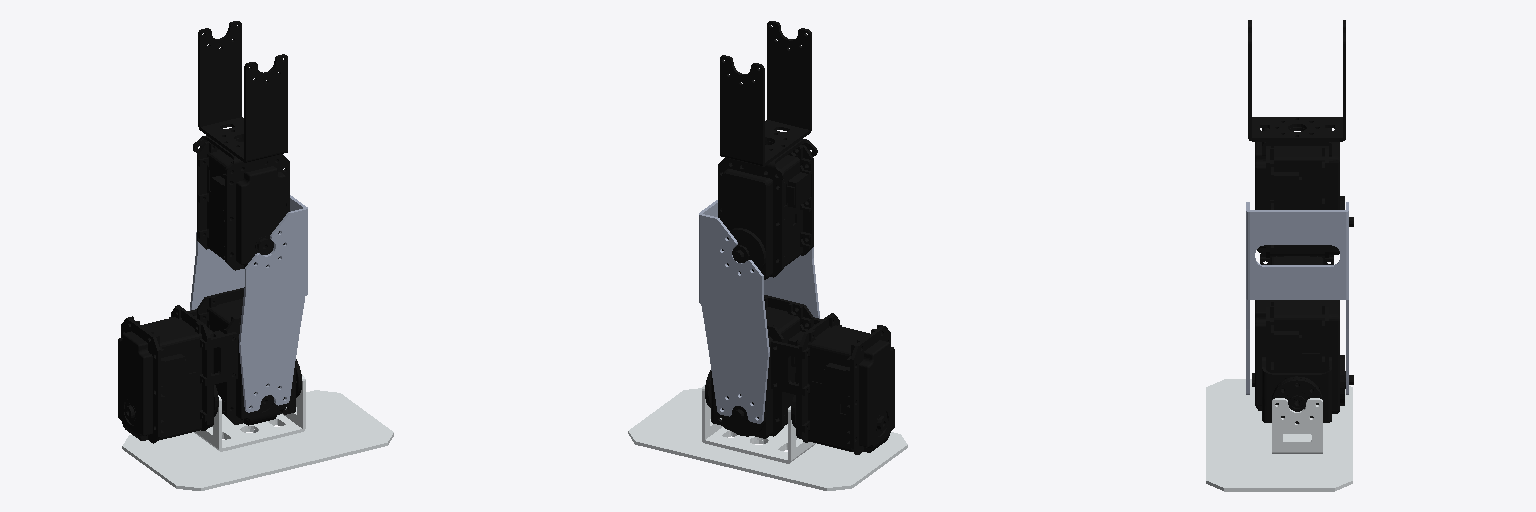
URDF robot description (manipulator4):
<?xml version="1.0" encoding="utf-8"?>
<!-- This URDF was automatically created by SolidWorks to URDF Exporter! Originally created by [author] ([email redacted]) 
     Commit Version: 1.6.0-4-g7f85cfe  Build Version: 1.6.7995.38578
     For more information, please see http://wiki.ros.org/sw_urdf_exporter -->
<robot
  name="manipulator4">
  <link
    name="base_link">
    <inertial>
      <origin
        xyz="2.17331708185498E-12 0.00178247112194396 0.00306162092244028"
        rpy="0 0 0" />
      <mass
        value="0.0728910331402469" />
      <inertia
        ixx="3.33197131957043E-05"
        ixy="-2.71242780722914E-14"
        ixz="8.0980735478671E-16"
        iyy="0.000102630001592682"
        iyz="1.6496497981213E-12"
        izz="0.000132875198490806" />
    </inertial>
    <visual>
      <origin
        xyz="0 0 0"
        rpy="0 0 0" />
      <geometry>
        <mesh
          filename="package://manipulator4/meshes/base_link.STL" />
      </geometry>
      <material
        name="">
        <color
          rgba="0.898039215686275 0.917647058823529 0.929411764705882 1" />
      </material>
    </visual>
    <collision>
      <origin
        xyz="0 0 0"
        rpy="0 0 0" />
      <geometry>
        <mesh
          filename="package://manipulator4/meshes/base_link.STL" />
      </geometry>
    </collision>
  </link>
  <link
    name="link_1">
    <inertial>
      <origin
        xyz="0.000227538997475629 0.0154251824435588 -0.0551470673142738"
        rpy="0 0 0" />
      <mass
        value="0.180088485284144" />
      <inertia
        ixx="7.46163435024469E-05"
        ixy="1.04652081852546E-06"
        ixz="5.66413204468217E-10"
        iyy="4.6834481154212E-05"
        iyz="1.07372682745277E-06"
        izz="7.51968011341353E-05" />
    </inertial>
    <visual>
      <origin
        xyz="0 0 0"
        rpy="0 0 0" />
      <geometry>
        <mesh
          filename="package://manipulator4/meshes/link_1.STL" />
      </geometry>
      <material
        name="">
        <color
          rgba="0.109803921568627 0.109803921568627 0.109803921568627 1" />
      </material>
    </visual>
    <collision>
      <origin
        xyz="0 0 0"
        rpy="0 0 0" />
      <geometry>
        <mesh
          filename="package://manipulator4/meshes/link_1.STL" />
      </geometry>
    </collision>
  </link>
  <joint
    name="joint_1"
    type="revolute">
    <origin
      xyz="0.02791 0.0096306 0.03233"
      rpy="1.5708 -0.00052794 1.5708" />
    <parent
      link="base_link" />
    <child
      link="link_1" />
    <axis
      xyz="0 0 1" />
    <limit
      lower="-3.14"
      upper="3.14"
      effort="3.14"
      velocity="3.14" />
  </joint>
  <link
    name="link_2">
    <inertial>
      <origin
        xyz="-0.00932898241717806 0.0613340430799498 -0.0305322255214537"
        rpy="0 0 0" />
      <mass
        value="0.0193582268613659" />
      <inertia
        ixx="3.00375991978184E-05"
        ixy="4.16144713130199E-06"
        ixz="2.19699734046279E-09"
        iyy="1.5433776617761E-05"
        iyz="-3.1693652762254E-09"
        izz="2.14370348461358E-05" />
    </inertial>
    <visual>
      <origin
        xyz="0 0 0"
        rpy="0 0 0" />
      <geometry>
        <mesh
          filename="package://manipulator4/meshes/link_2.STL" />
      </geometry>
      <material
        name="">
        <color
          rgba="0.666666666666667 0.698039215686274 0.768627450980392 1" />
      </material>
    </visual>
    <collision>
      <origin
        xyz="0 0 0"
        rpy="0 0 0" />
      <geometry>
        <mesh
          filename="package://manipulator4/meshes/link_2.STL" />
      </geometry>
    </collision>
  </link>
  <joint
    name="joint_2"
    type="revolute">
    <origin
      xyz="0.0308 -1.6277E-05 -0.03202"
      rpy="-1.5708 1.5708 -1.5708" />
    <parent
      link="link_1" />
    <child
      link="link_2" />
    <axis
      xyz="0 -0.00052794 1" />
    <limit
      lower="-3.14"
      upper="3.14"
      effort="3.14"
      velocity="3.14" />
  </joint>
  <link
    name="link_3">
    <inertial>
      <origin
        xyz="2.84556350677589E-05 0.0218754116356132 -0.0255801322315767"
        rpy="0 0 0" />
      <mass
        value="0.0975320096834529" />
      <inertia
        ixx="4.93088846498694E-05"
        ixy="7.60384502706862E-09"
        ixz="-2.30622525887365E-09"
        iyy="2.88361322903035E-05"
        iyz="1.05882453673914E-06"
        izz="3.6419155365456E-05" />
    </inertial>
    <visual>
      <origin
        xyz="0 0 0"
        rpy="0 0 0" />
      <geometry>
        <mesh
          filename="package://manipulator4/meshes/link_3.STL" />
      </geometry>
      <material
        name="">
        <color
          rgba="0.109803921568627 0.109803921568627 0.109803921568627 1" />
      </material>
    </visual>
    <collision>
      <origin
        xyz="0 0 0"
        rpy="0 0 0" />
      <geometry>
        <mesh
          filename="package://manipulator4/meshes/link_3.STL" />
      </geometry>
    </collision>
  </link>
  <joint
    name="joint_3"
    type="revolute">
    <origin
      xyz="0 0.0950025208757817 -0.00474984497089004"
      rpy="0 0 0" />
    <parent
      link="link_2" />
    <child
      link="link_3" />
    <axis
      xyz="0 -0.000527940633375548 0.999999860639334" />
    <limit
      lower="-3.14"
      upper="3.14"
      effort="3.14"
      velocity="3.14" />
  </joint>
</robot>

--- Facts derived from the render (not from the file) ---
Views: 3 orthographic renders of the robot side by side, from view 1: azimuth 30°, elevation 25°; view 2: azimuth 150°, elevation 25°; view 3: azimuth 270°, elevation 25°.
Robot: manipulator4 — 4 links, 3 joints (3 revolute); root link base_link; default pose: all joints at 0.
Visible links, largest first — view 1: link_3, link_1, base_link, link_2; view 2: link_3, link_1, link_2, base_link; view 3: base_link, link_1, link_3, link_2.
Link boxes in pixels (left/top/right/bottom): link_3: left=193, top=21, right=289, bottom=270; link_1: left=118, top=287, right=301, bottom=443; base_link: left=122, top=375, right=393, bottom=490; link_2: left=190, top=195, right=307, bottom=412; link_3: left=718, top=21, right=817, bottom=279; link_1: left=705, top=295, right=894, bottom=454; link_2: left=699, top=200, right=819, bottom=423; base_link: left=628, top=384, right=907, bottom=490; base_link: left=1206, top=379, right=1352, bottom=491; link_1: left=1252, top=253, right=1353, bottom=423; link_3: left=1248, top=20, right=1353, bottom=257; link_2: left=1246, top=202, right=1348, bottom=394.
Size in the robot's own frame: 0.1482 by 0.0804 by 0.2427 metres.
Meshes: 4 distinct files referenced, 4 mesh visuals loaded (4 binary STL).
